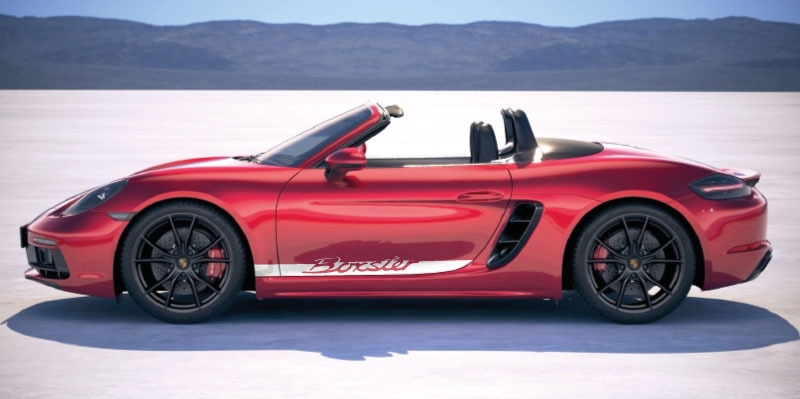mobil: (16, 98, 776, 328)
